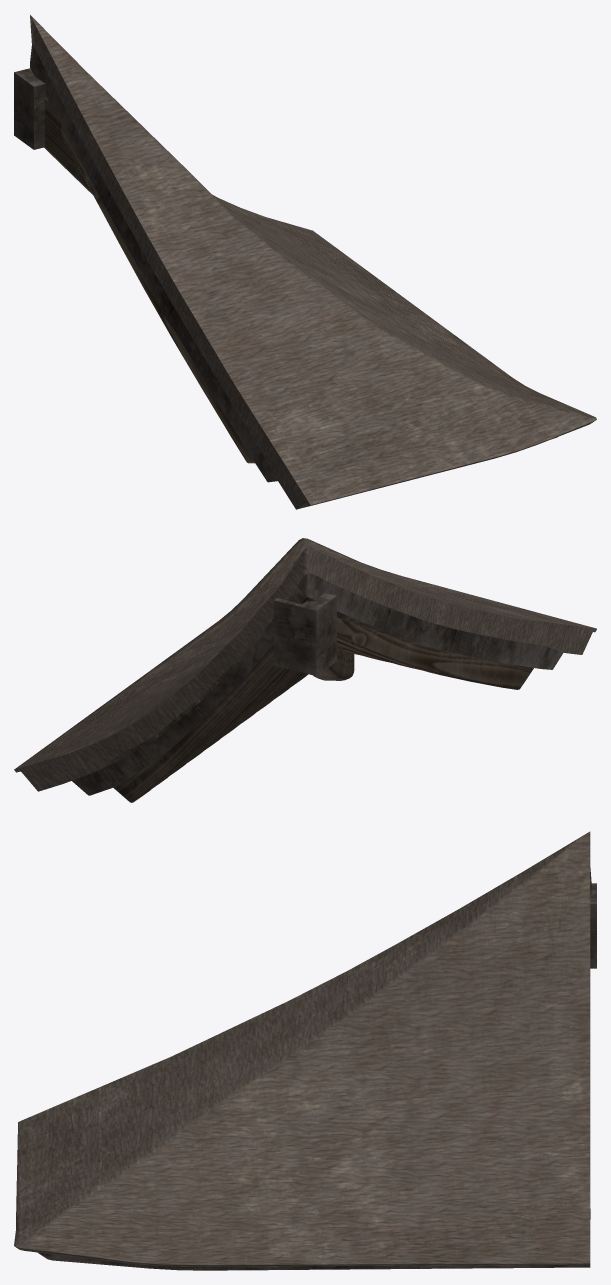
File: ShrineModule_Roof-03.fbx
3 renders of one model, top to bottom at view 1: azimuth 30°, elevation 25°; view 2: azimuth 150°, elevation 25°; view 3: azimuth 270°, elevation 25°, orthographic. The views are drawn at different scales.
Visible parts, largest first — view 1: ShrineModule_Roof-03; view 2: ShrineModule_Roof-03; view 3: ShrineModule_Roof-03.
Part boxes in pixels (x1=…): ShrineModule_Roof-03: x1=14, y1=15, x2=596, y2=509; ShrineModule_Roof-03: x1=14, y1=538, x2=596, y2=802; ShrineModule_Roof-03: x1=14, y1=831, x2=596, y2=1270.
Size of the model in its own units: 2.59 by 2.51 by 4.28.
